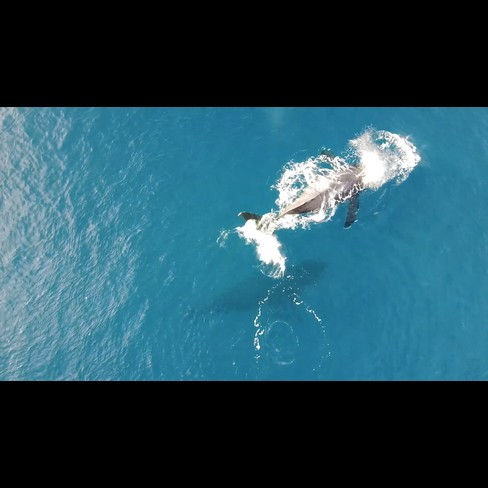hump: (232, 123, 429, 277)
